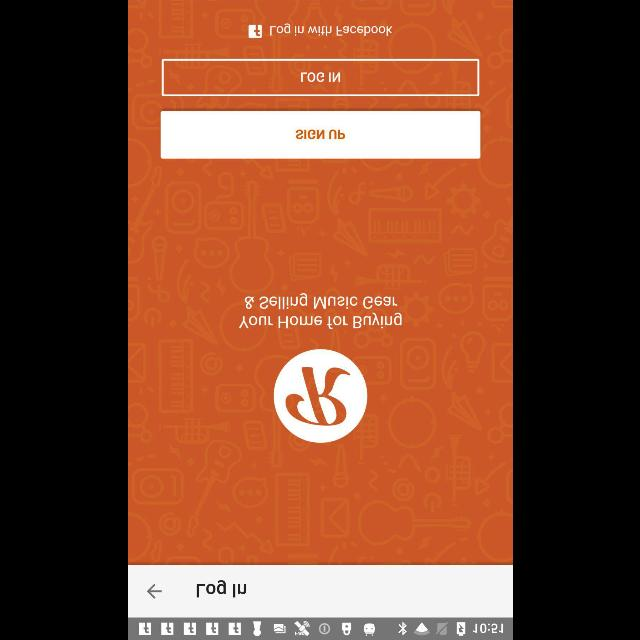icon: (146, 584, 162, 598), (248, 24, 262, 38)
image: (273, 349, 367, 443)
text: (237, 293, 401, 329), (270, 24, 392, 36), (196, 579, 246, 597)
textbutton: (160, 111, 480, 159), (161, 58, 479, 96)
toolbar: (128, 565, 512, 617)
uppertaskbar: (128, 617, 512, 639)
